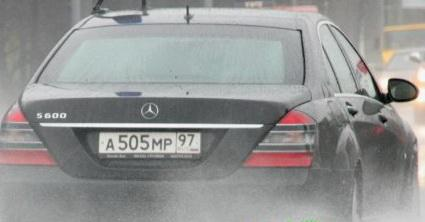license-plateSW: (98, 133, 200, 154)
